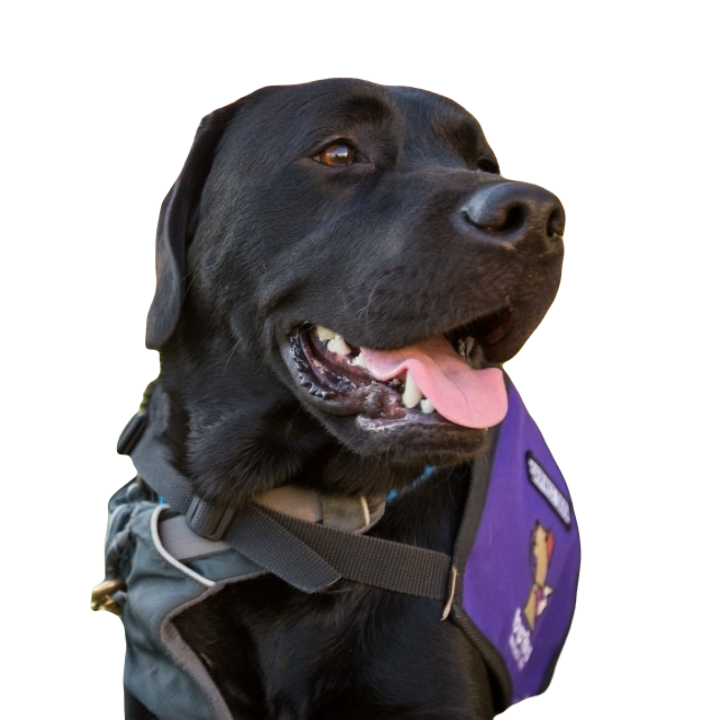Dog: (93, 57, 565, 719)
